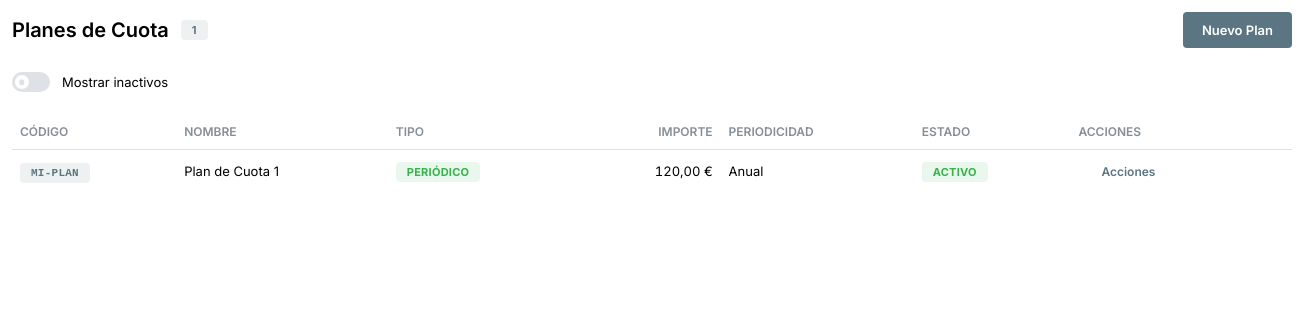
Test: FeePlansListPage › menu de acciones por fila › deberia mostrar opcion "Ver vinculaciones" en menu de acciones
Check: the text "MI-PLAN" is shown, box [31,164,79,182]
// abrir menu via boton (Mantine Menu.Dropdown renderiza en portal)
Click the button "Acciones".
click(1128, 172)  # box [1078,157,1178,187]
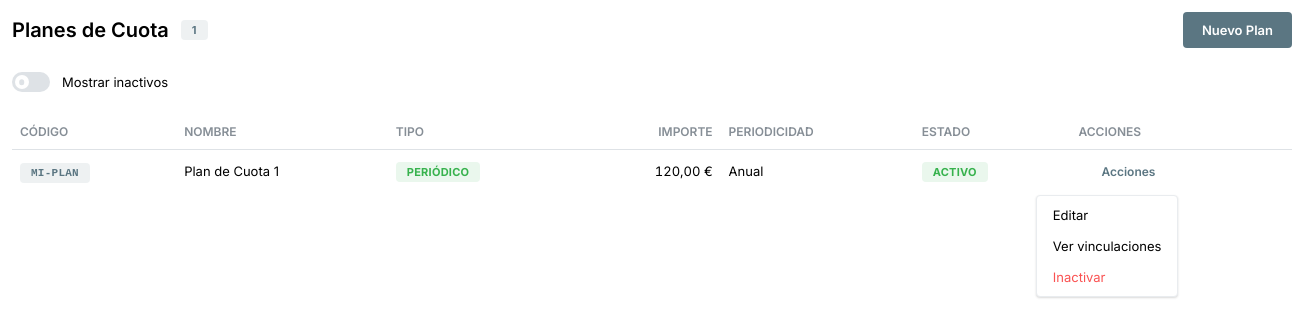
Check: the text "Ver vinculaciones" is shown, box [1053,236,1161,256]
